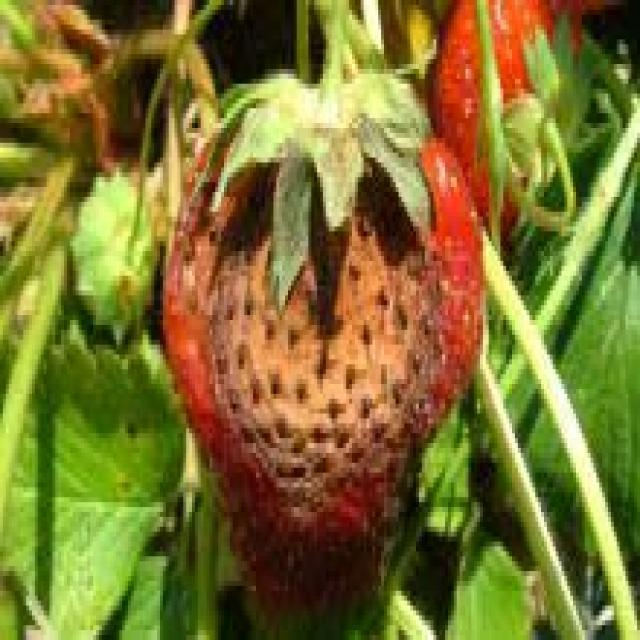Mancha negra Antracnosis: (157, 69, 483, 604)
